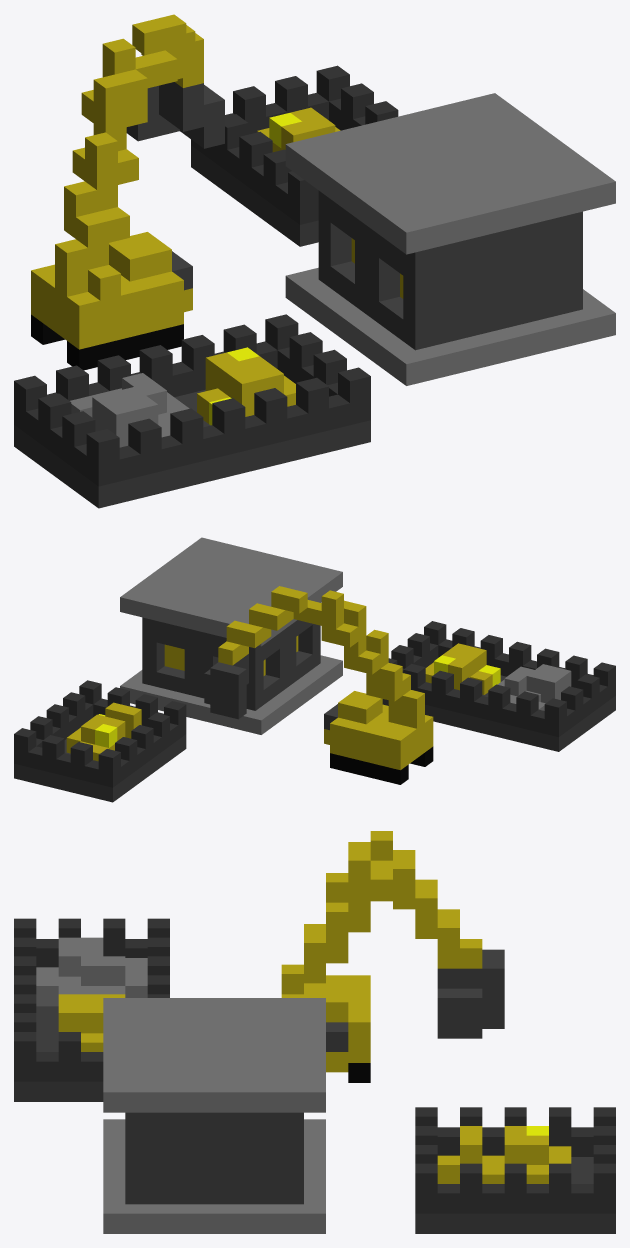
Rendered from mine_building.obj.
3 renders of one model, top to bottom at view 1: azimuth 30°, elevation 25°; view 2: azimuth 150°, elevation 25°; view 3: azimuth 270°, elevation 25°, orthographic. The views are drawn at different scales.
Size of the model in its own units: 2.7 by 1.2 by 2.7.
Materials: 1 (1 with a texture image).
